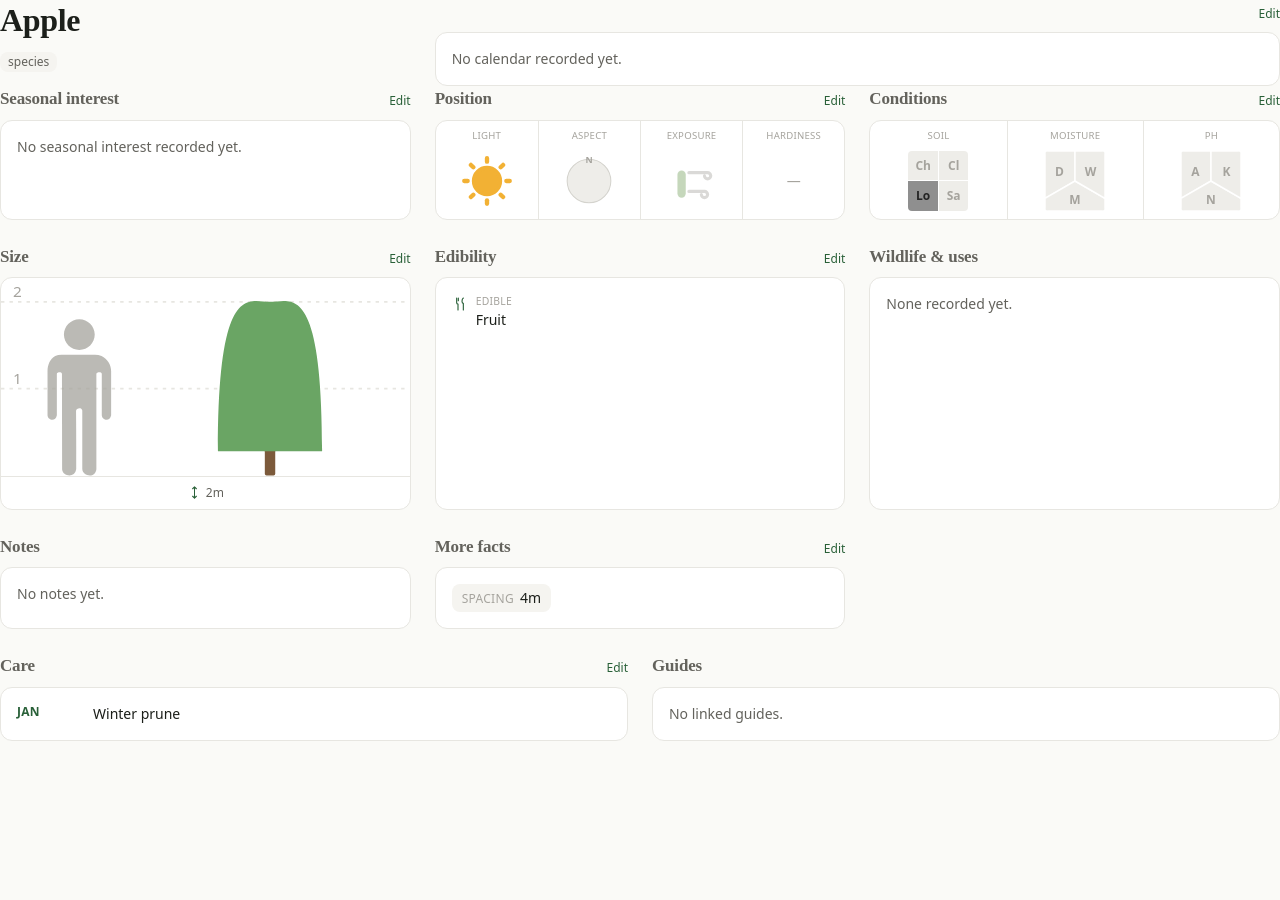
CheatsheetContent edit orchestration › the Conditions card Edit button opens the Edit conditions editor
Click the button "Edit" in the row of "Conditions": click(1269, 101) 1258,93 -> 1279,109
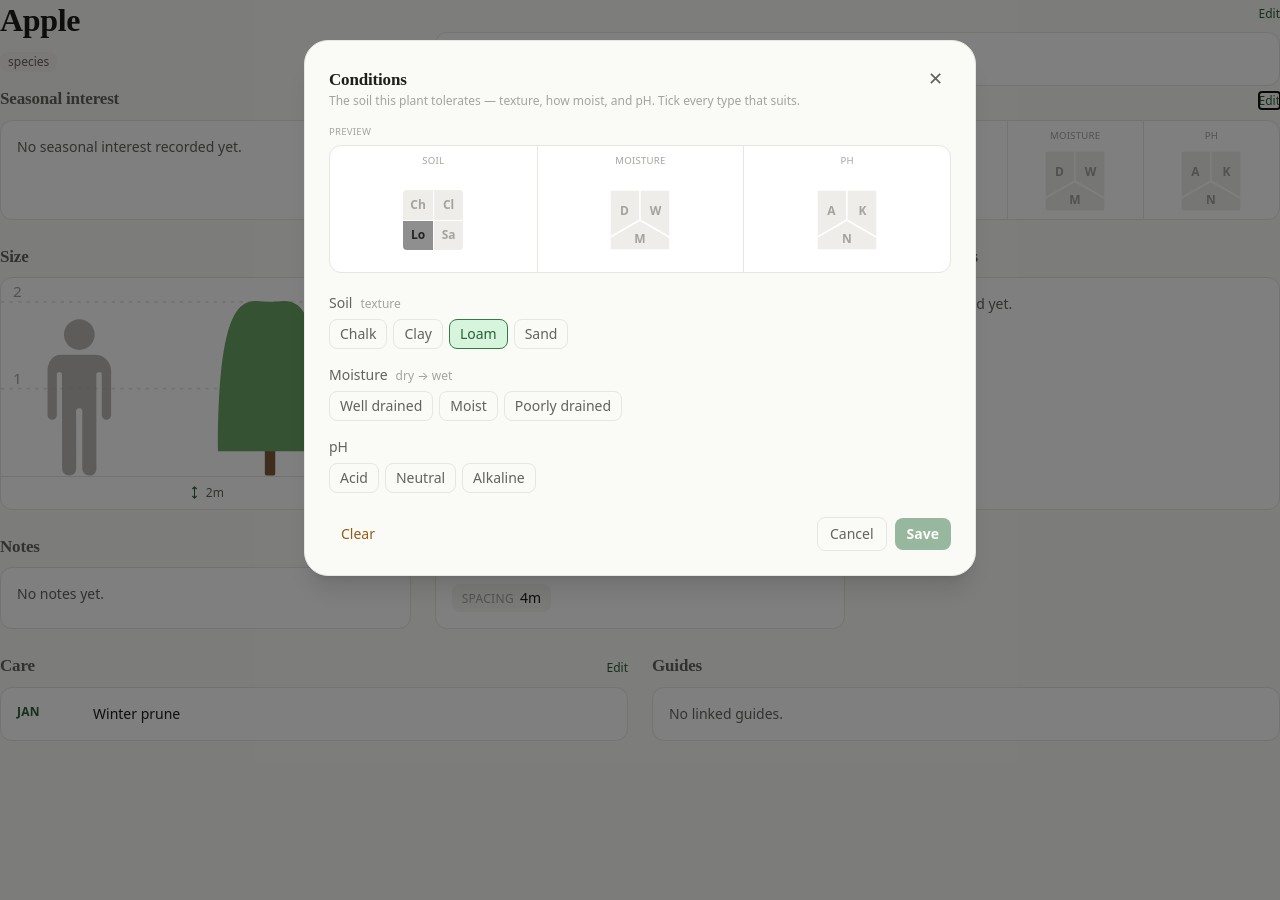
Result: the dialog named "Edit conditions" is shown at 304,40 -> 976,576
